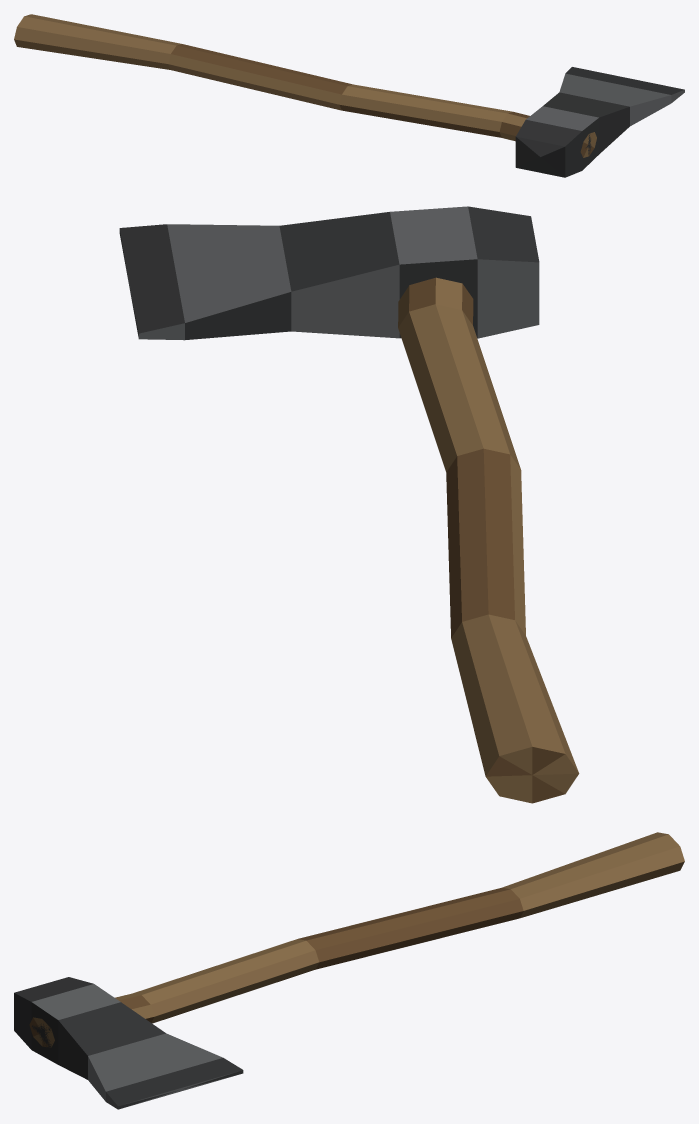
Rendered from axe-ground.glb.
3 renders of one model, top to bottom at view 1: azimuth 30°, elevation 25°; view 2: azimuth 150°, elevation 25°; view 3: azimuth 270°, elevation 25°, orthographic. The views are drawn at different scales.
Visible parts, largest first — view 1: axe-ground; view 2: axe-ground; view 3: axe-ground.
Boxes of the visible parts, x1,y1,x2,y2 form: axe-ground: [14, 14, 684, 177]; axe-ground: [119, 206, 579, 803]; axe-ground: [14, 832, 684, 1109].
Size of the model in its own units: 0.6641 by 0.056 by 0.707.
